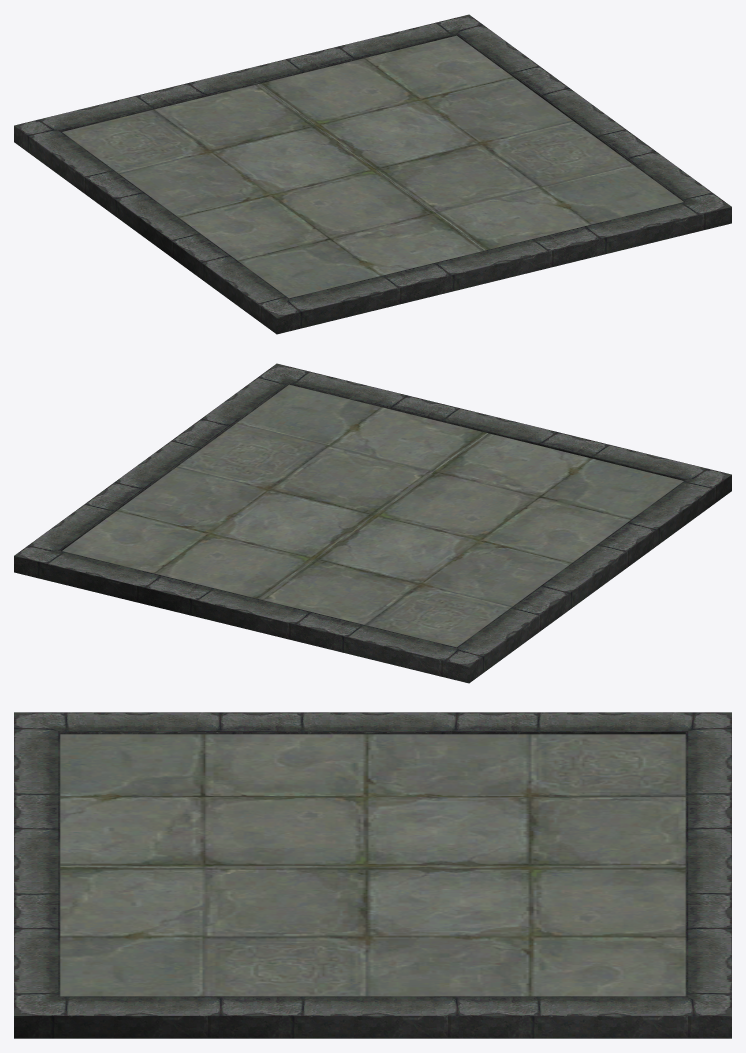
File: environment_Building_jiguan_001_a.FBX
3 views of the same model, one above another, from view 1: azimuth 30°, elevation 25°; view 2: azimuth 150°, elevation 25°; view 3: azimuth 270°, elevation 25° (orthographic). The views are drawn at different scales.
Visible parts, largest first — view 1: environment_Building_jiguan_001_a3, environment_Building_jiguan_001_a2, environment_Building_jiguan_001_a1; view 2: environment_Building_jiguan_001_a3, environment_Building_jiguan_001_a2, environment_Building_jiguan_001_a1; view 3: environment_Building_jiguan_001_a2, environment_Building_jiguan_001_a3, environment_Building_jiguan_001_a1.
Part boxes in pixels (box(x1,y1,x2,y2)): environment_Building_jiguan_001_a3: box(259, 35, 683, 250); environment_Building_jiguan_001_a2: box(62, 84, 485, 298); environment_Building_jiguan_001_a1: box(14, 14, 731, 334); environment_Building_jiguan_001_a3: box(62, 384, 486, 599); environment_Building_jiguan_001_a2: box(260, 433, 683, 647); environment_Building_jiguan_001_a1: box(14, 363, 731, 683); environment_Building_jiguan_001_a2: box(60, 734, 685, 866); environment_Building_jiguan_001_a3: box(60, 866, 685, 996); environment_Building_jiguan_001_a1: box(14, 712, 731, 1038).
Size of the model in its own units: 604 by 21.1 by 604.
